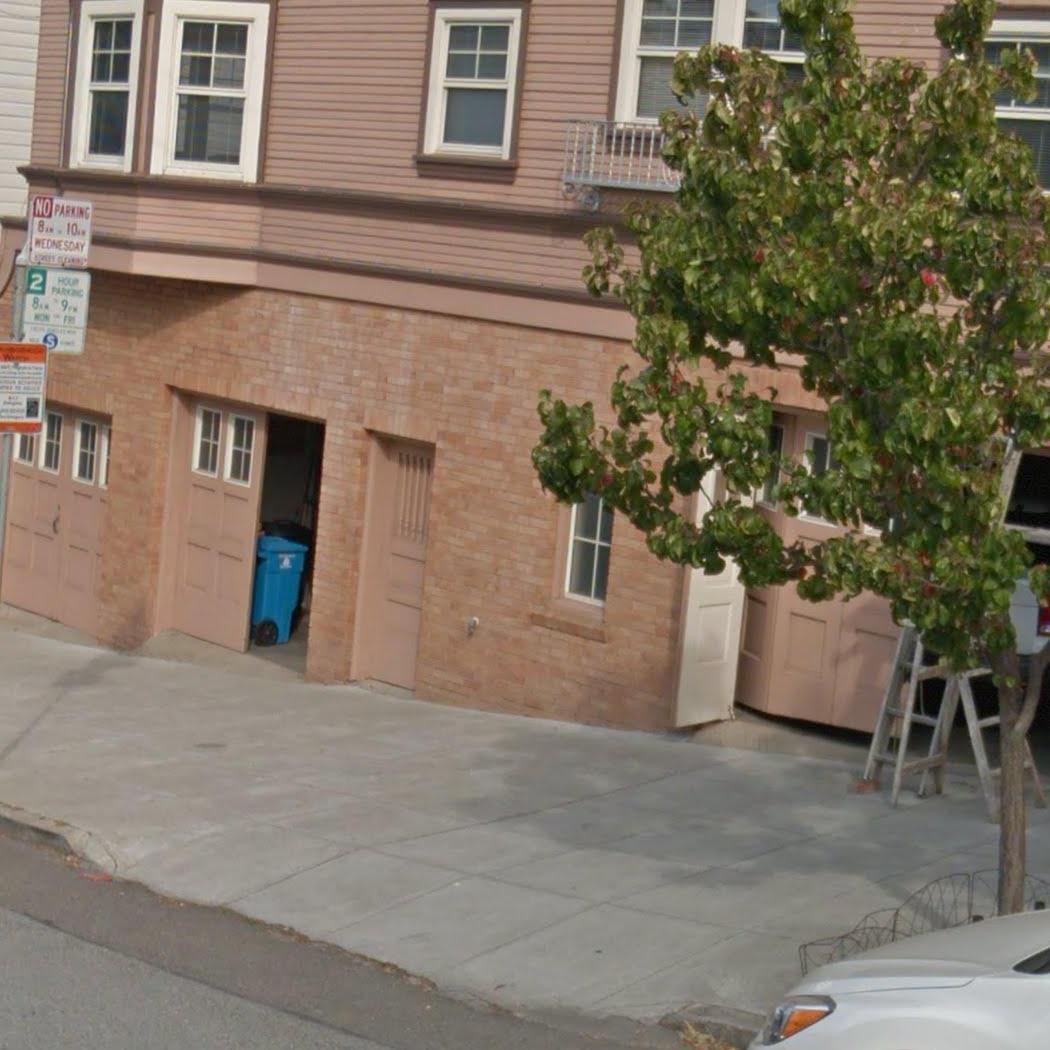2 Hour Parking: (13, 264, 93, 357)
No Parking: (25, 194, 96, 270)
